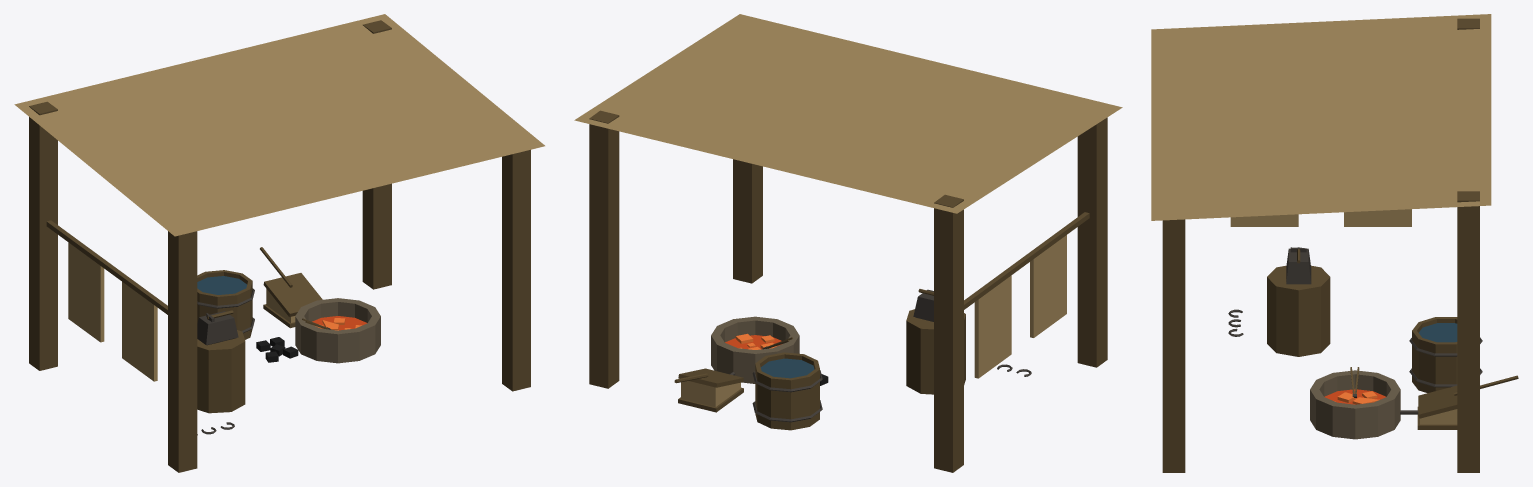
File: Workshop_Steppe.fbx
3 views of the same model, side by side, from view 1: azimuth 30°, elevation 25°; view 2: azimuth 150°, elevation 25°; view 3: azimuth 270°, elevation 25° (orthographic). The views are drawn at different scales.
Parts seen in each view (by area): view 1: Workshop_Steppe_Mesh; view 2: Workshop_Steppe_Mesh; view 3: Workshop_Steppe_Mesh.
Part boxes in pixels (x1,y1,x2,y2): Workshop_Steppe_Mesh: (14, 14, 544, 472); Workshop_Steppe_Mesh: (574, 14, 1122, 472); Workshop_Steppe_Mesh: (1151, 14, 1518, 472).
Size of the model in its own units: 4 by 2.65 by 3.24.
